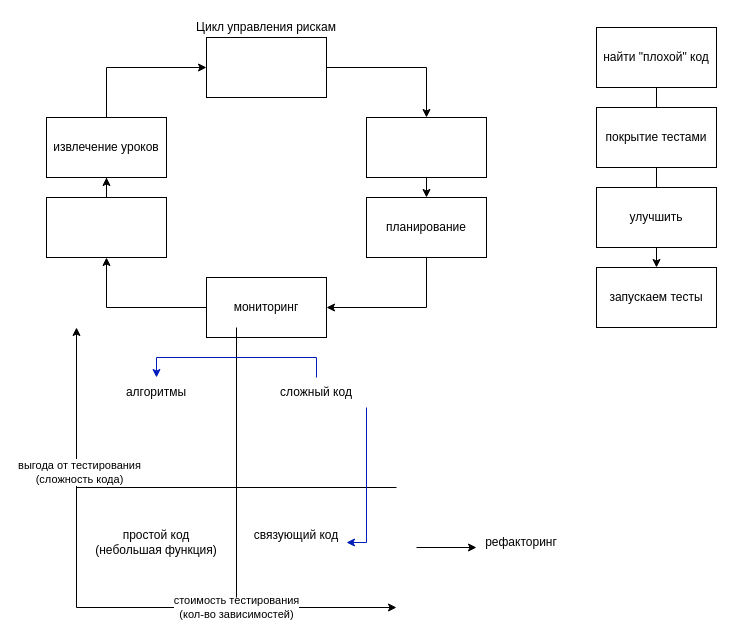
Image size: 734x637. Some labels were removed from this diagram. The shapes that lost their labels are listed below. From the top down, each one's centre as x and y in pixels, then its label:
At point (266, 67): "выявление".
At point (426, 147): "анализ и приоритезация".
At point (106, 227): "коррекция".
